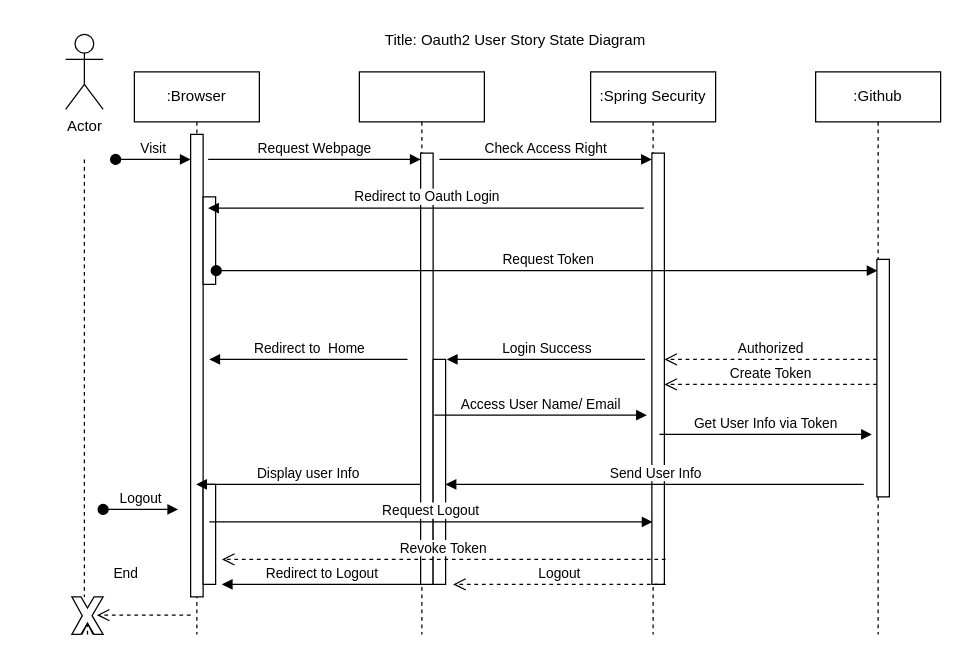
Some shapes in this 963 by 669 pixel diagram are drawn without their labels. The shapes that lost their labels are listed below. From the top down, each one's box as (x1, y1, x2, y2) in pixels, then its label:
(358, 71, 484, 634): :Controller
(21, 158, 147, 597): :User
